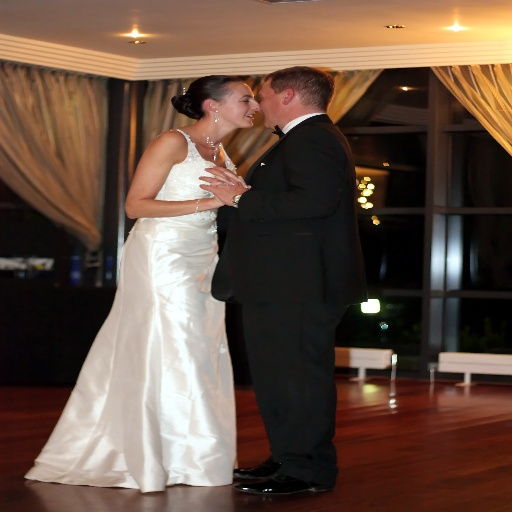hand: (210, 171, 248, 204)
